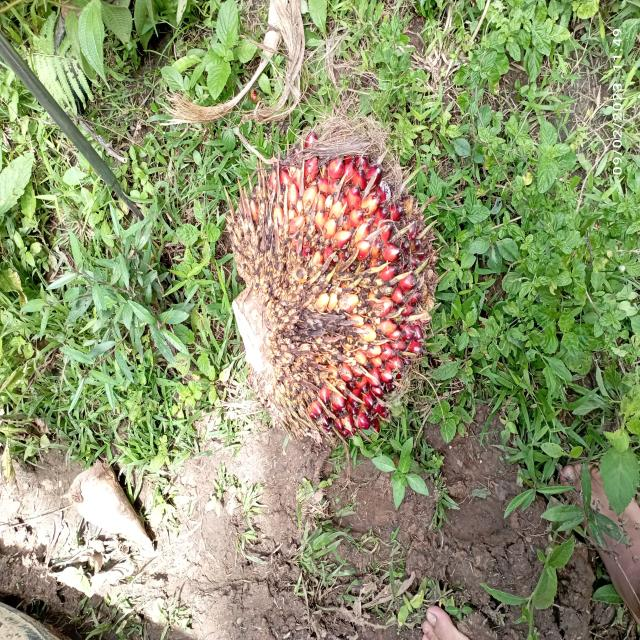fraksi 3: (208, 106, 447, 484)
